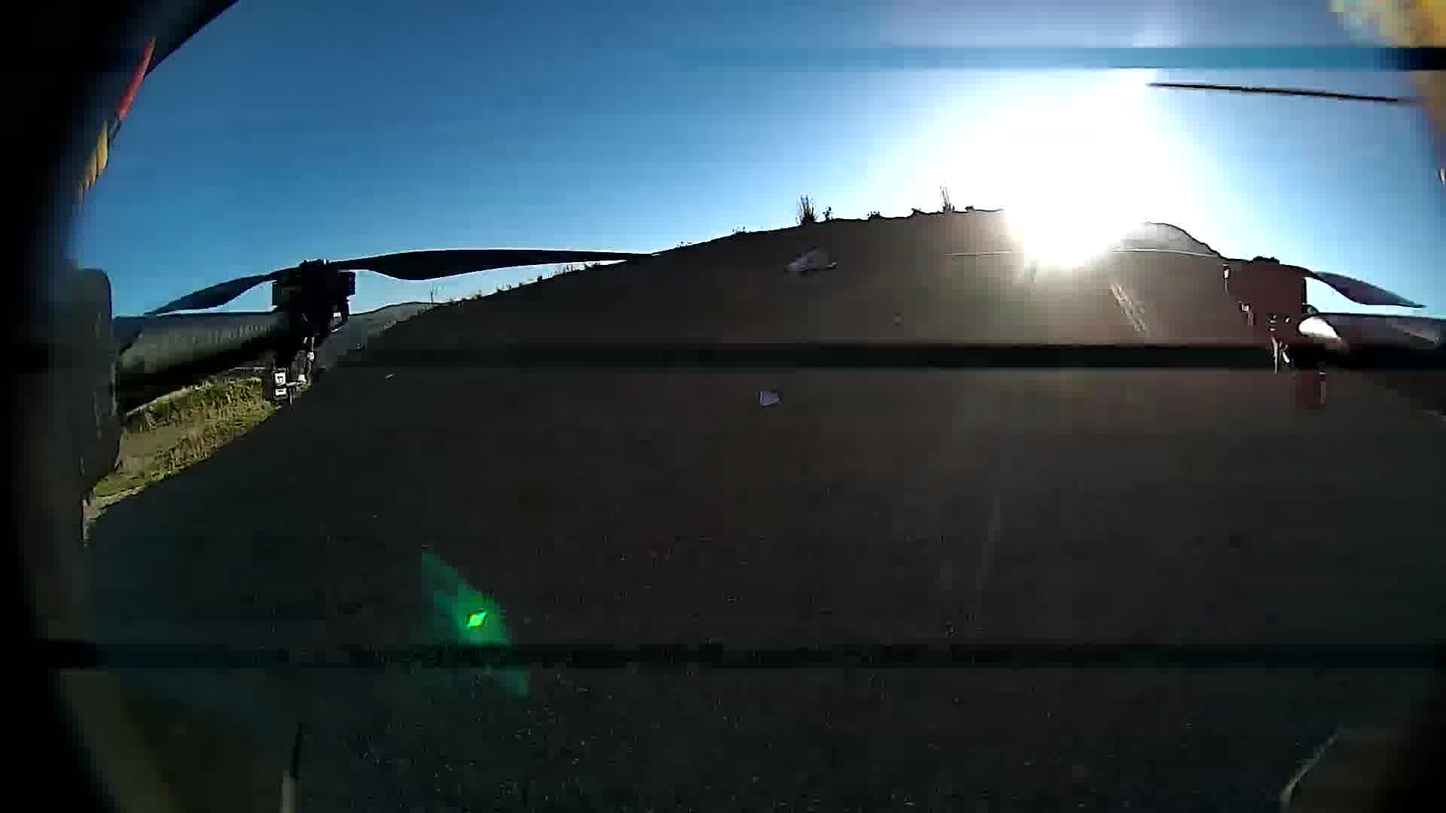Target: (756, 384, 784, 412)
